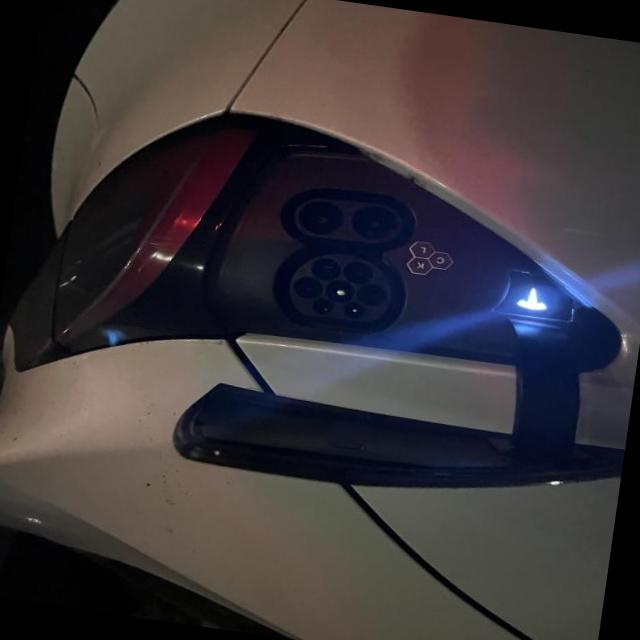inlet: (289, 253, 390, 321)
inlet-above-left: (343, 301, 364, 318)
inlet-above-right: (311, 298, 332, 314)
inlet-below-left: (342, 261, 372, 282)
inlet-below-right: (310, 257, 341, 279)
inlet-center: (323, 279, 354, 302)
inlet-center-left: (355, 282, 387, 306)
inlet-center-right: (292, 276, 322, 299)
